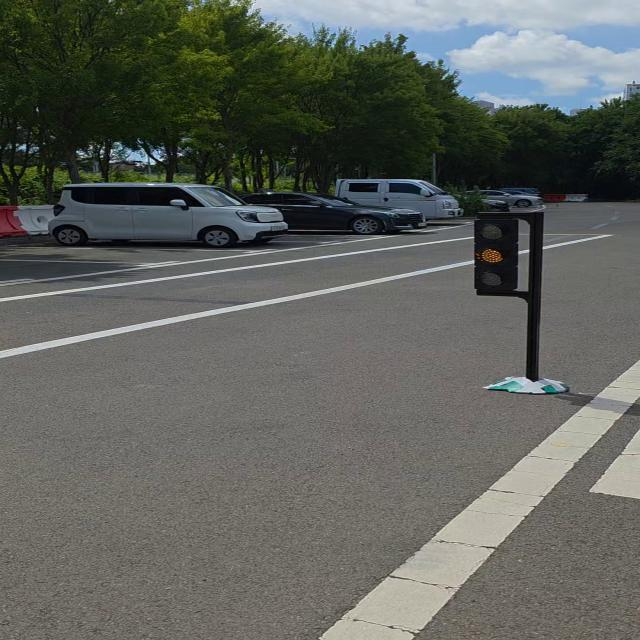yellow: (465, 208, 526, 298)
